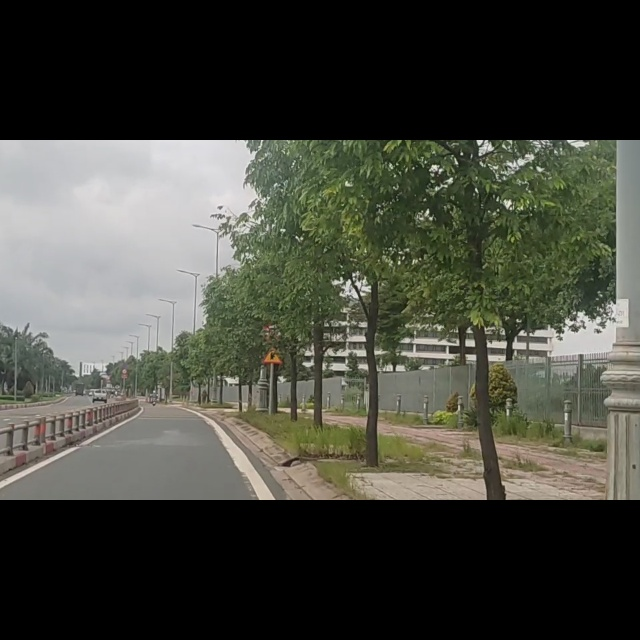bien_cam: (261, 369, 283, 401)
